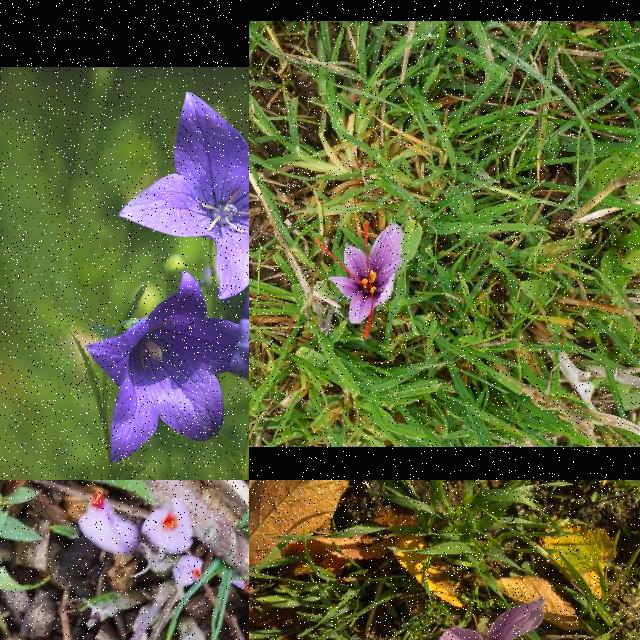flower: (316, 222, 404, 340), (400, 597, 570, 640), (78, 487, 140, 555), (142, 499, 194, 555), (172, 554, 204, 588), (232, 577, 249, 593)
